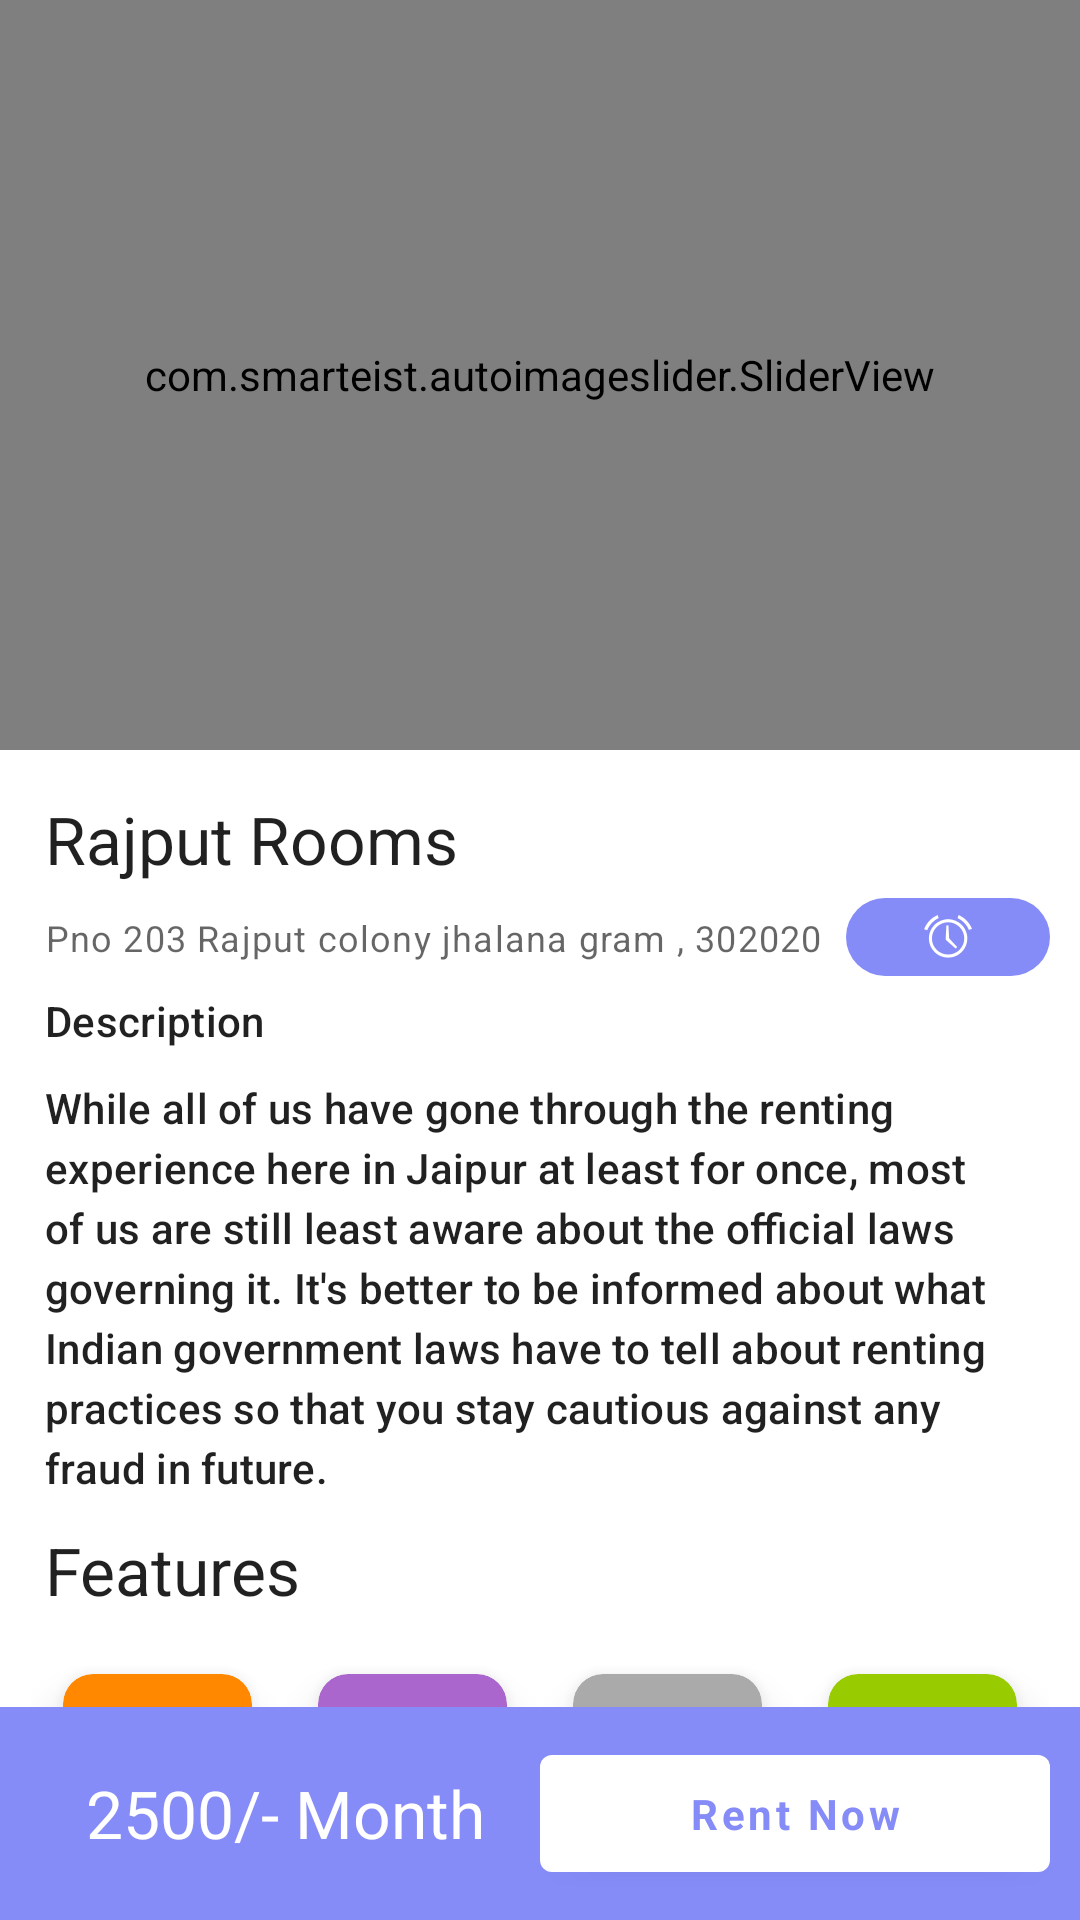

Point at icon controls on the screen. Image size 1080 x 1920, points as (x=x, y=y).
lock idle alarm: (x=948, y=937)
